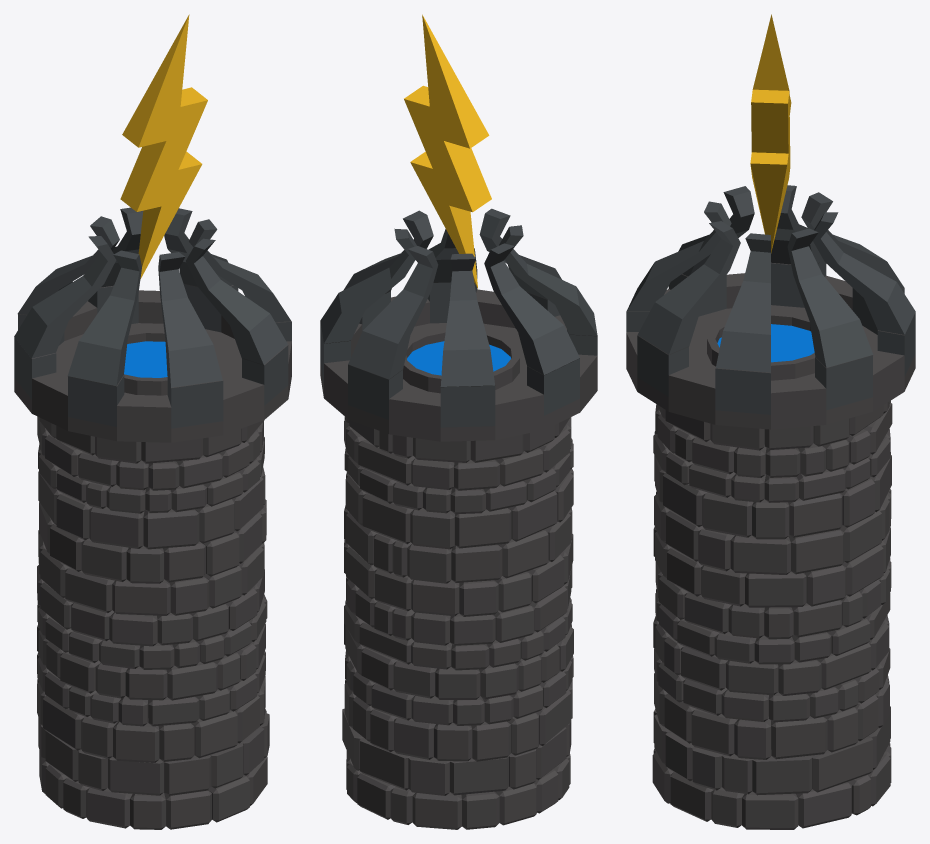
File: Lightning TowerZeroPointThree.fbx
The picture shows the model from 3 angles, left to right: view 1: azimuth 30°, elevation 25°; view 2: azimuth 150°, elevation 25°; view 3: azimuth 270°, elevation 25°; orthographic projection. The views are drawn at different scales.
Parts seen in each view (by area): view 1: Wall, Cone.001, Cone.002, Lightning, Cone.003; view 2: Wall, Cone.001, Cone.002, Lightning, Cone.003; view 3: Wall, Cone.001, Cone.002, Lightning, Cone.003.
Boxes of the visible parts, x1,y1,x2,y2 form: Wall: [37, 416, 269, 829]; Cone.001: [14, 207, 291, 428]; Cone.002: [14, 284, 291, 442]; Lightning: [120, 14, 207, 279]; Cone.003: [124, 341, 167, 377]; Wall: [342, 416, 573, 829]; Cone.001: [320, 208, 597, 427]; Cone.002: [320, 282, 597, 441]; Lightning: [404, 14, 491, 288]; Cone.003: [407, 341, 510, 375]; Wall: [652, 400, 892, 829]; Cone.001: [626, 185, 915, 414]; Cone.002: [626, 262, 915, 429]; Lightning: [750, 14, 791, 253]; Cone.003: [717, 324, 814, 362].
Size of the model in its own units: 268 by 802 by 268.
